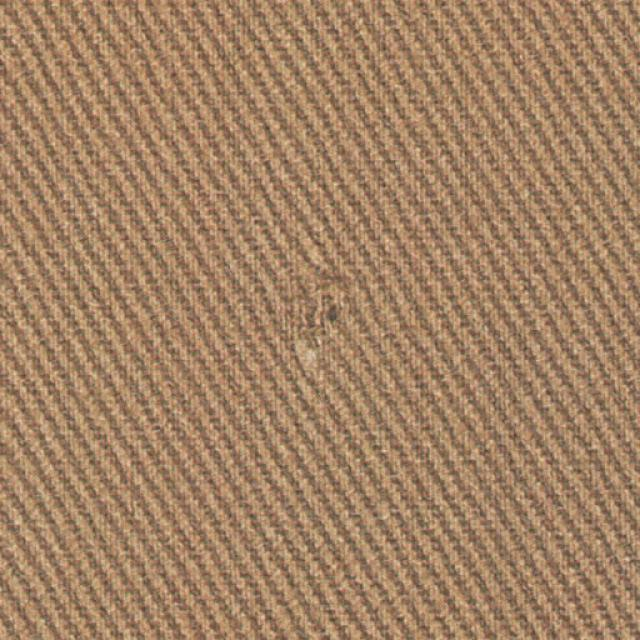other: (232, 231, 405, 372)
